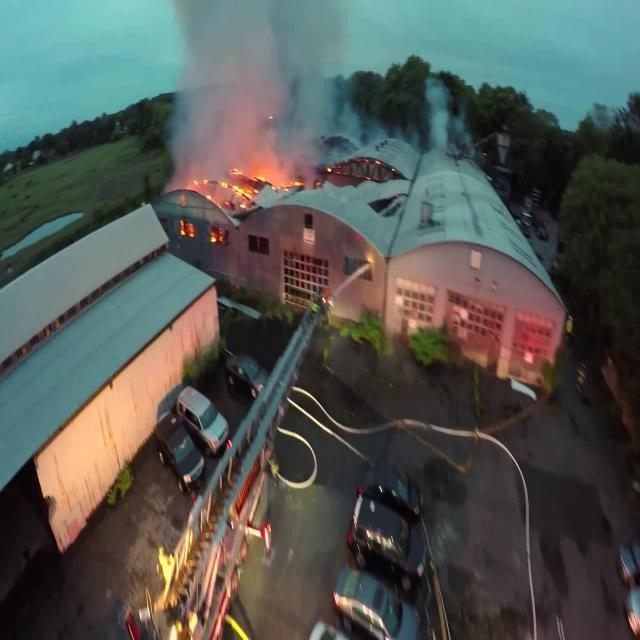Fire: (175, 158, 278, 218)
Smoke: (179, 0, 325, 142)
